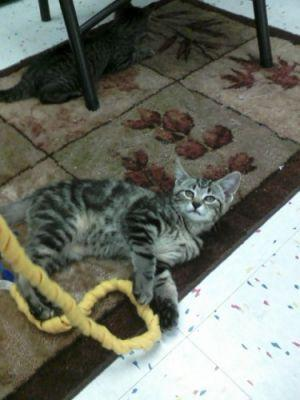bengal: (166, 155, 245, 239)
